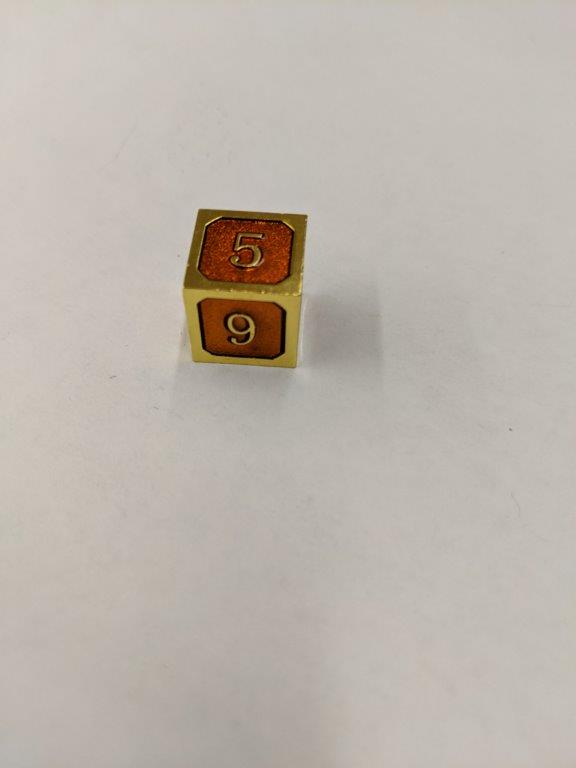d6-5: (180, 205, 309, 375)
